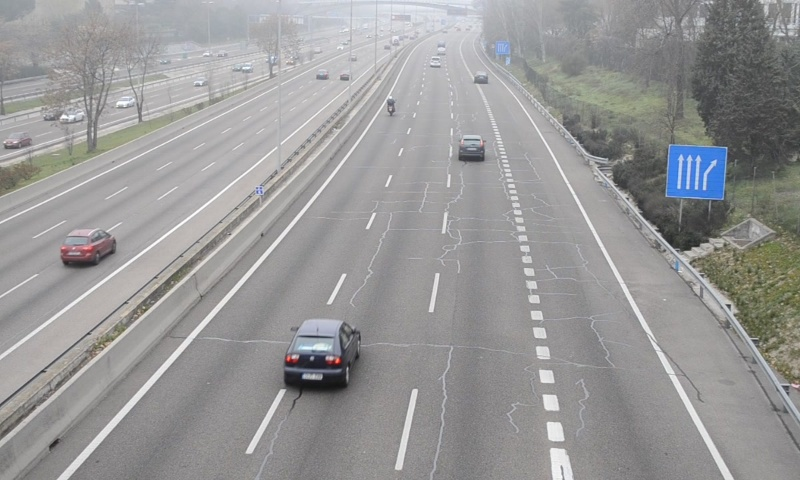car: (284, 320, 362, 388), (458, 134, 483, 161), (473, 71, 488, 84)
motorcycle: (386, 95, 396, 118)
